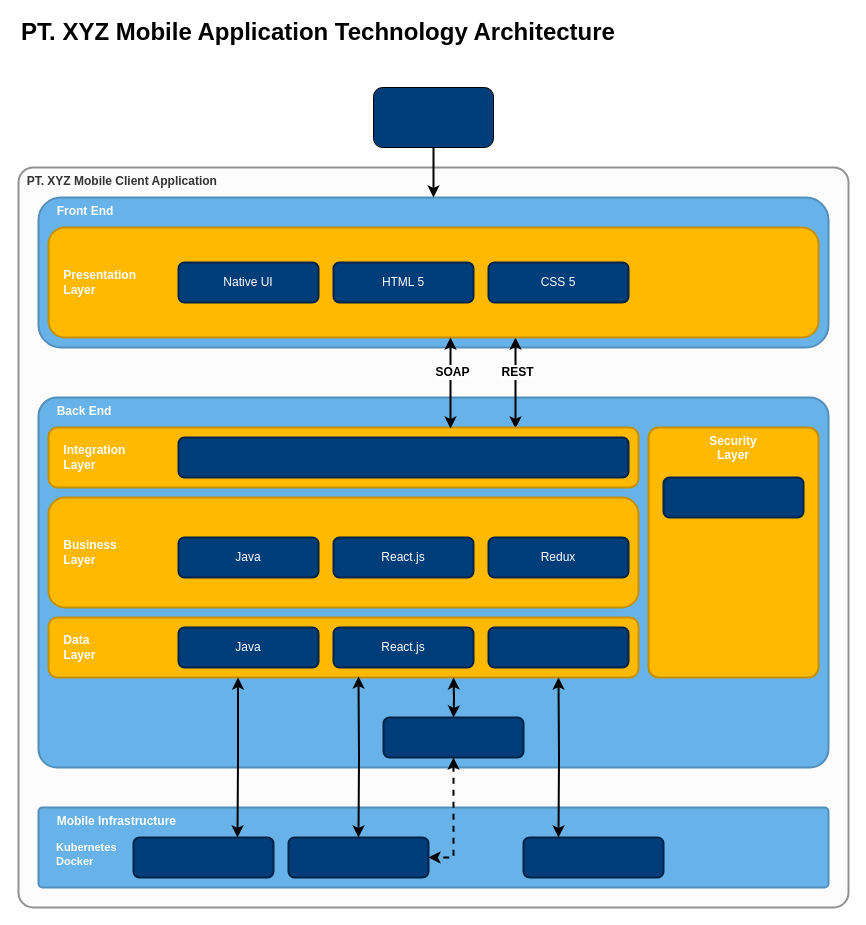
This 866x925 diagram has some shape labels left out. Each missing label, with the centre of its shape:
"Apache Kafka" belongs at pixel 403 457.
"Elastic Search" belongs at pixel 203 857.
"Java, Javascript" belongs at pixel 593 857.
"Javascript" belongs at pixel 558 647.
"Local Data & Cache" belongs at pixel 453 737.
"Oracle, MySQL, PosgreSQL" belongs at pixel 358 857.
"React" belongs at pixel 733 497.
"User" belongs at pixel 433 117.
